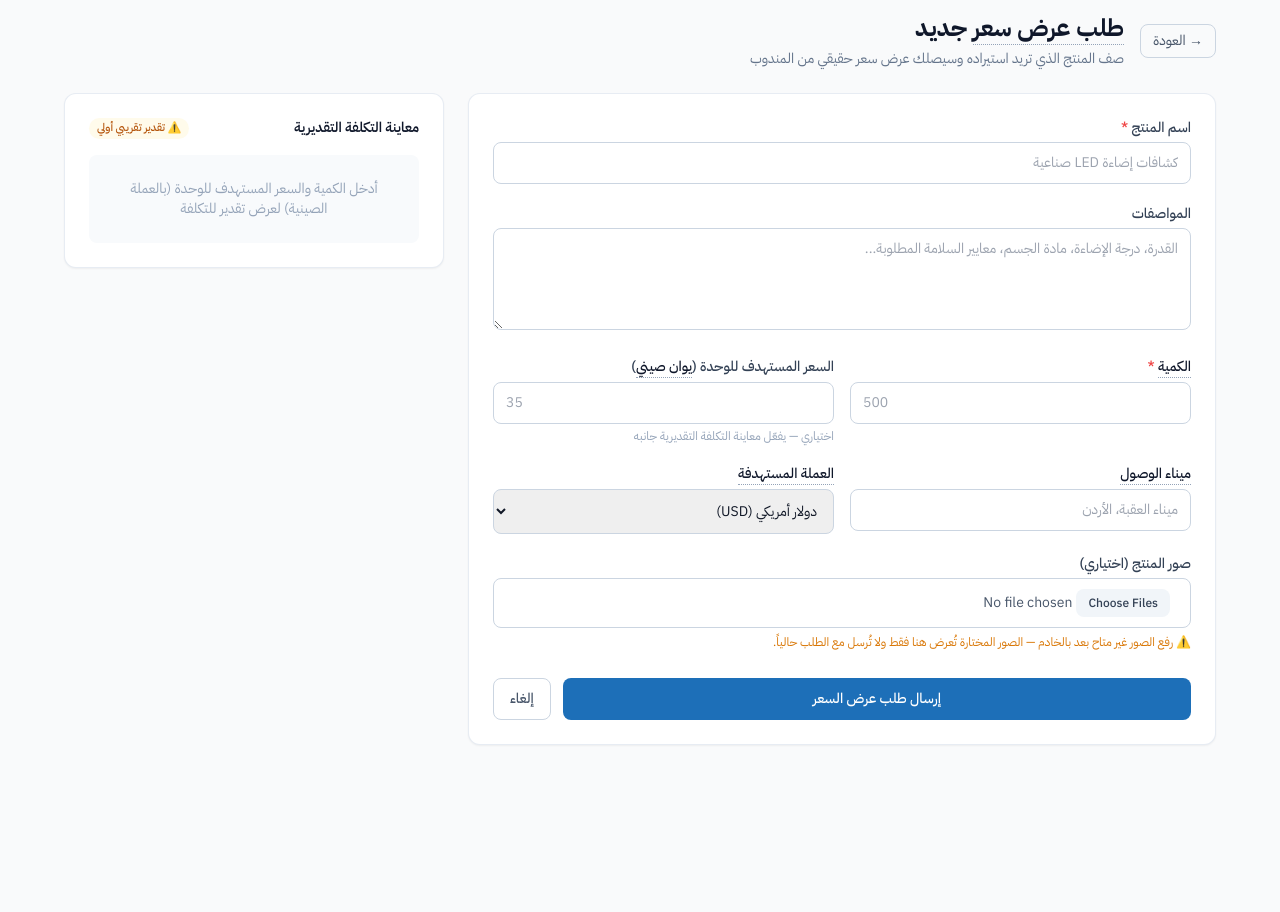
Test case: RFQCreatePageDesktop › computes a live local estimate once quantity and unit price are filled in
Type "100" into the number field with placeholder "500" at (1020, 403), box [850, 382, 1191, 424]
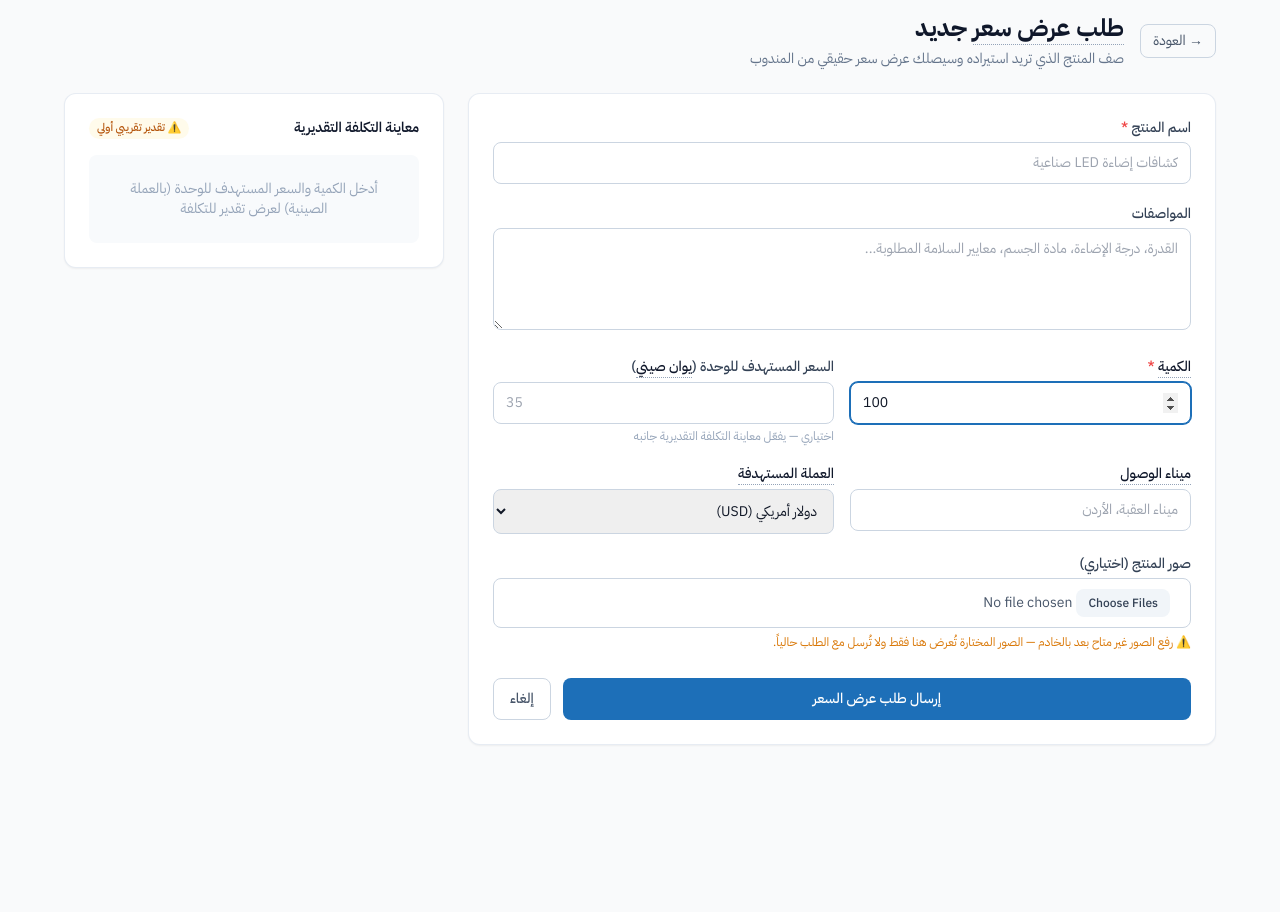
Type "20" into the number field with placeholder "35" at (664, 403), box [493, 382, 834, 424]
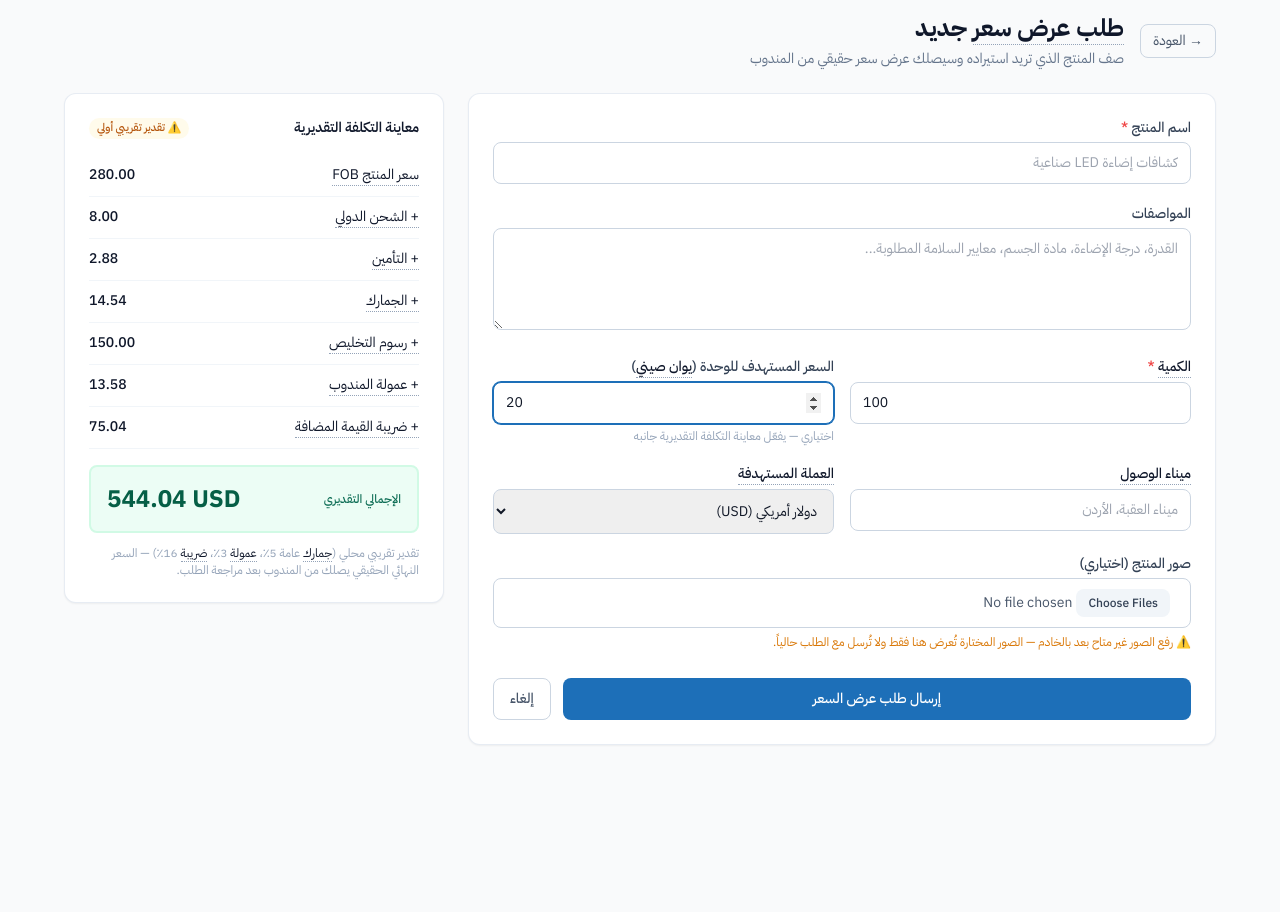
Expected: the text "⚠️ تقدير تقريبي أولي" is shown, [89, 118, 189, 138]
Now the text "الإجمالي التقديري" is shown, box [324, 490, 401, 506]
